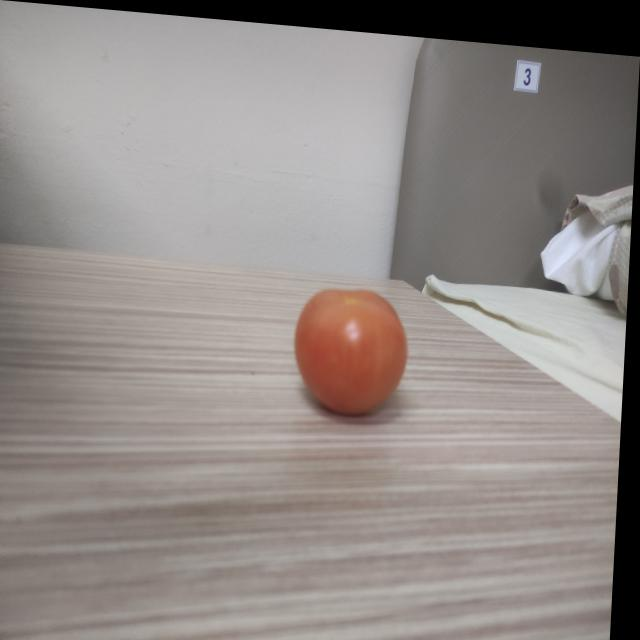sari: (282, 266, 425, 415)
